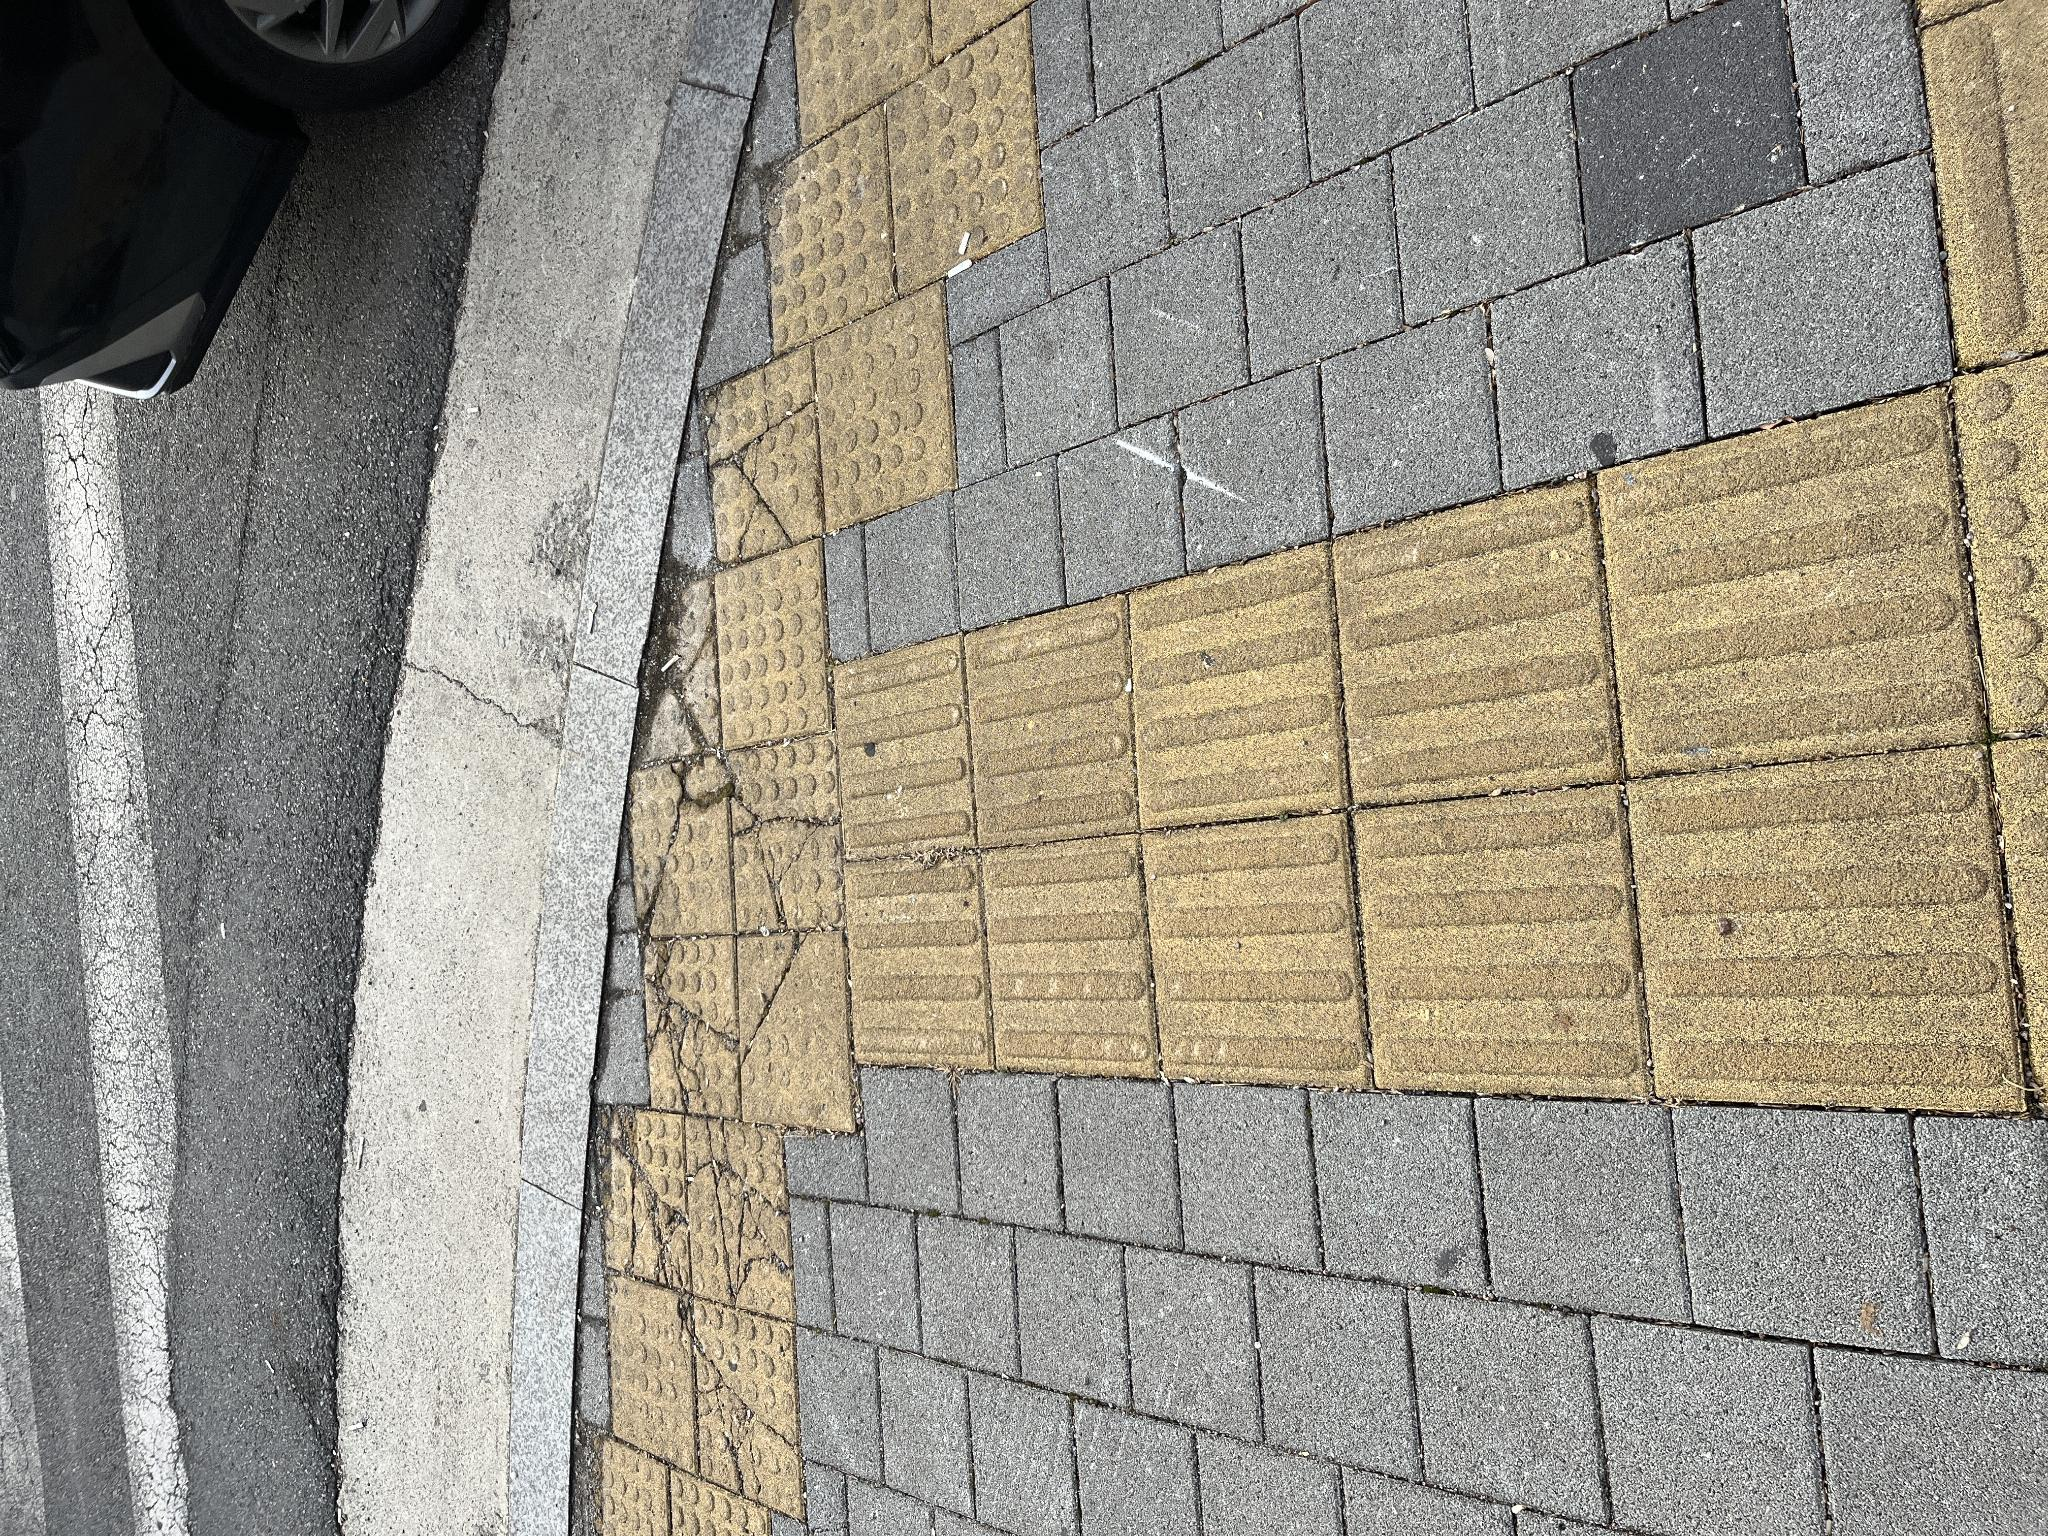Stop block broken: (18, 695, 237, 802), (606, 728, 803, 845), (406, 737, 603, 854), (218, 687, 418, 792), (245, 602, 429, 689)
Stop block normal: (1006, 815, 1251, 952), (789, 715, 997, 829)
Straight block normal: (445, 1355, 740, 1536), (692, 966, 942, 1136)
